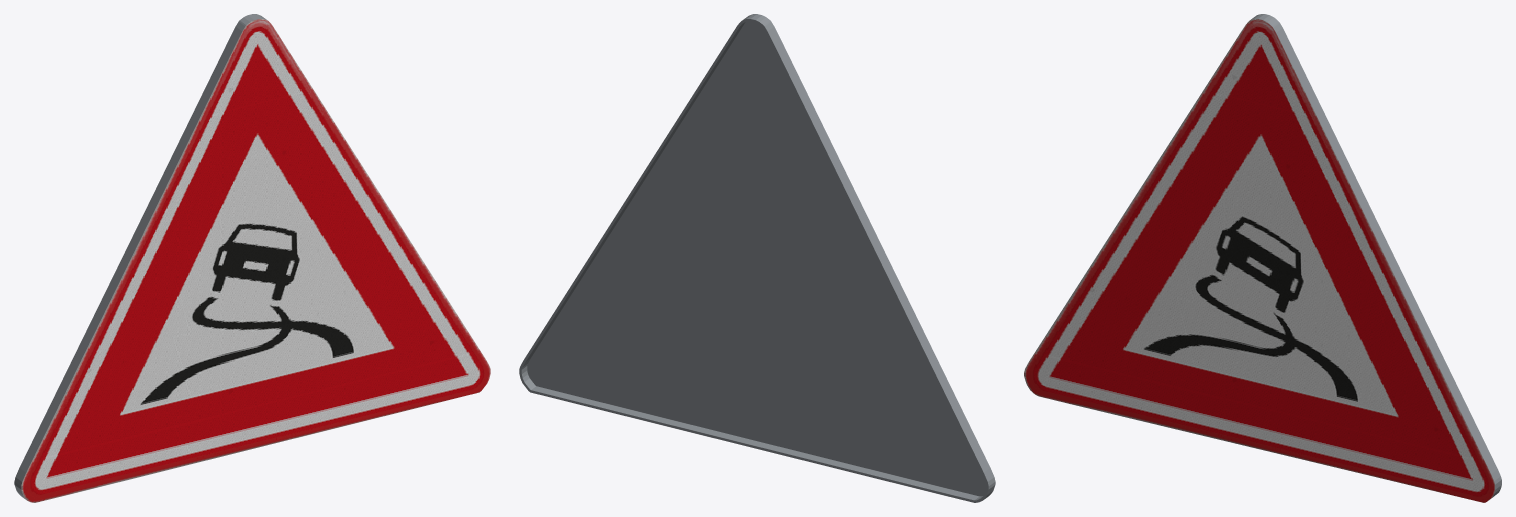
3 views of the same model, side by side, from view 1: azimuth 30°, elevation 25°; view 2: azimuth 150°, elevation 25°; view 3: azimuth 330°, elevation 25° (orthographic).
Visible parts, largest first — view 1: cat_1cbd9393b2d8e288; view 2: cat_1cbd9393b2d8e288; view 3: cat_1cbd9393b2d8e288.
Part boxes in pixels (box(x1,y1,x2,y2)): cat_1cbd9393b2d8e288: box(14, 14, 490, 502); cat_1cbd9393b2d8e288: box(519, 14, 995, 502); cat_1cbd9393b2d8e288: box(1024, 14, 1501, 502).
Bounding box in the file's own units: 0.6 × 0.015 × 0.5245.
2 materials, 1 textured.
